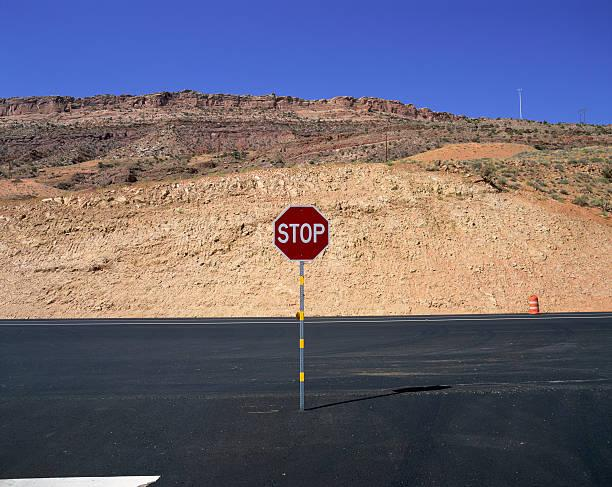Pole: (299, 260, 306, 410)
Sign: (274, 206, 330, 262)
